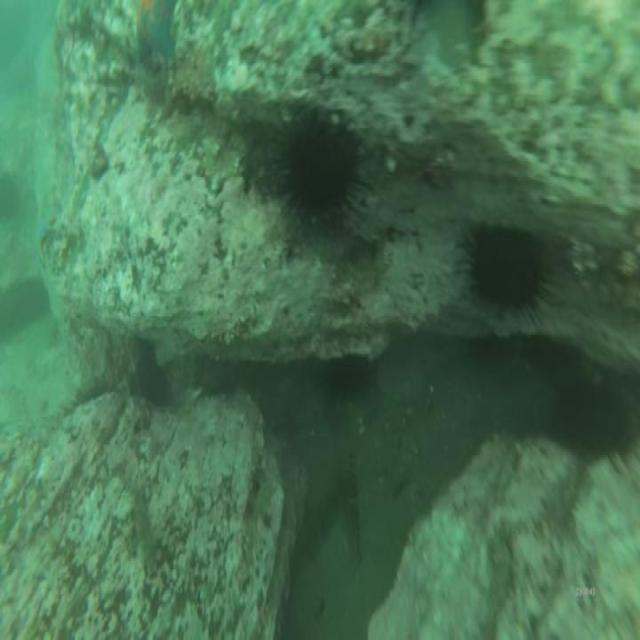echinus: (281, 102, 361, 242), (466, 218, 543, 316), (564, 365, 628, 474), (319, 349, 375, 416)
starfish: (132, 0, 180, 63)
